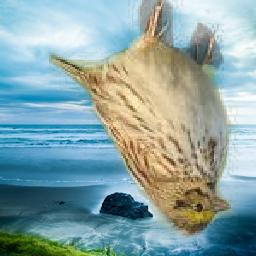Sparrow: (50, 0, 239, 241)
